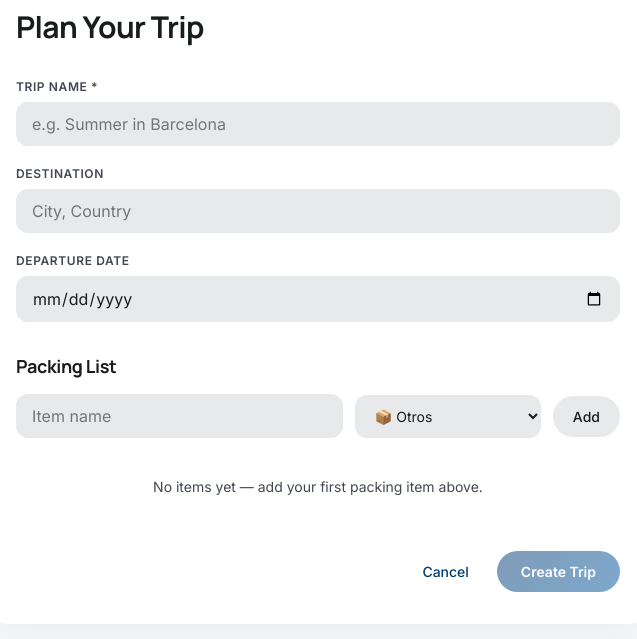
TripForm › adds item on Enter key
Type "Toothbrush" into the field with test id "new-item-name-input" at (179, 416), box [16,394,343,438]
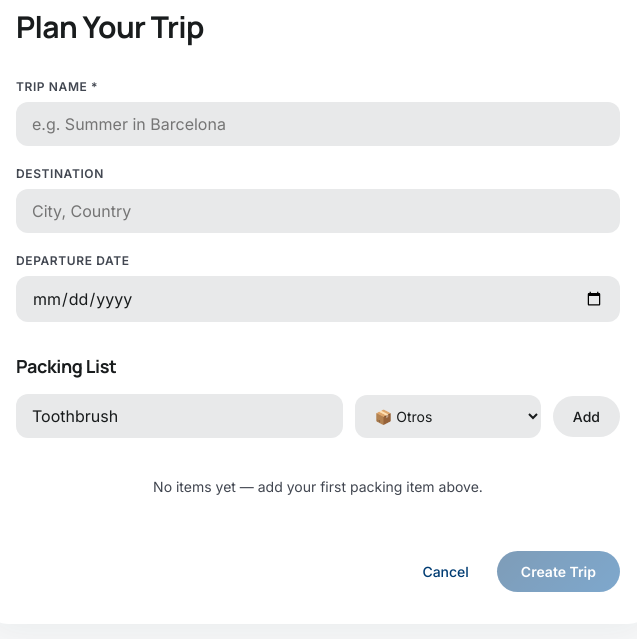
Press Enter in the field with test id "new-item-name-input", box [16,394,343,438]
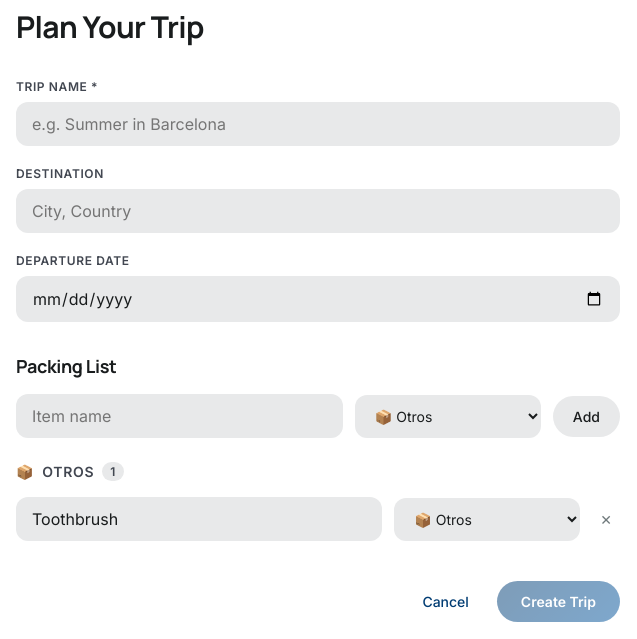
expect the field with test id "item-input-0" is shown: met, box [16,497,382,541]
